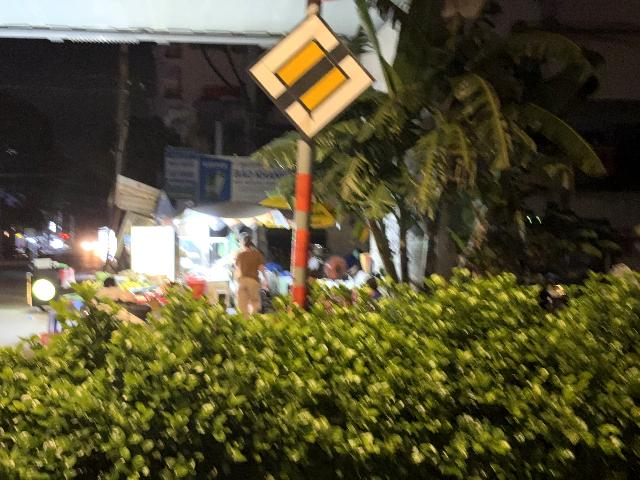het-duong-uu-tien: (244, 11, 377, 141)
